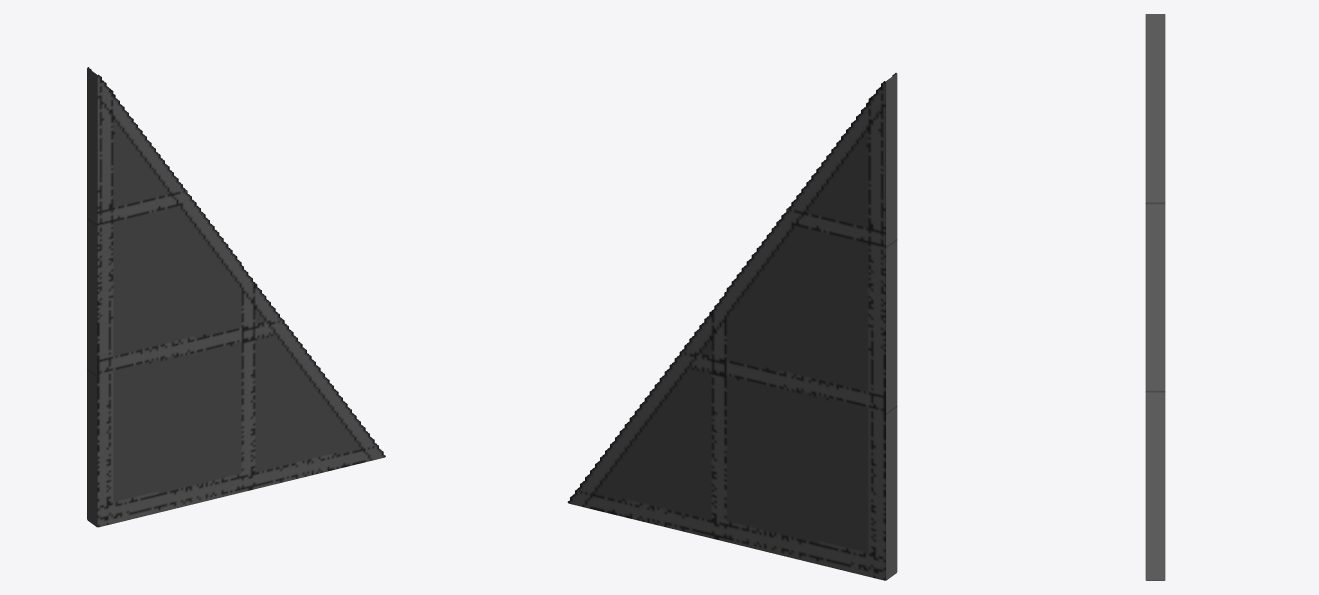
File: Angle_Side.obj
The picture shows the model from 3 angles, left to right: view 1: azimuth 30°, elevation 25°; view 2: azimuth 150°, elevation 25°; view 3: azimuth 270°, elevation 25°; orthographic projection. The views are drawn at different scales.
Visible parts, largest first — view 1: Default; view 2: Default; view 3: Default.
Part boxes in pixels (<box>): Default: <box>87,67,385,527</box>; Default: <box>567,73,897,580</box>; Default: <box>1145,14,1165,580</box>.
Size of the model in its own units: 80 by 120 by 75.
Materials: 1 (1 with a texture image).
